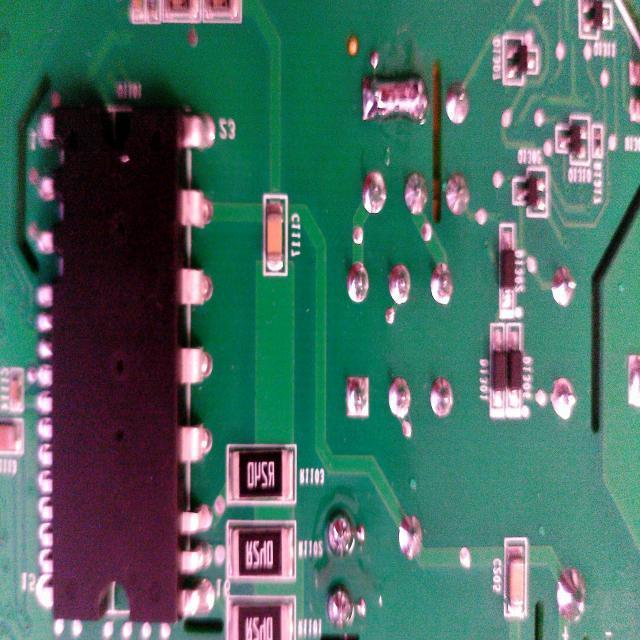Soldering shorted: (360, 71, 430, 128)
